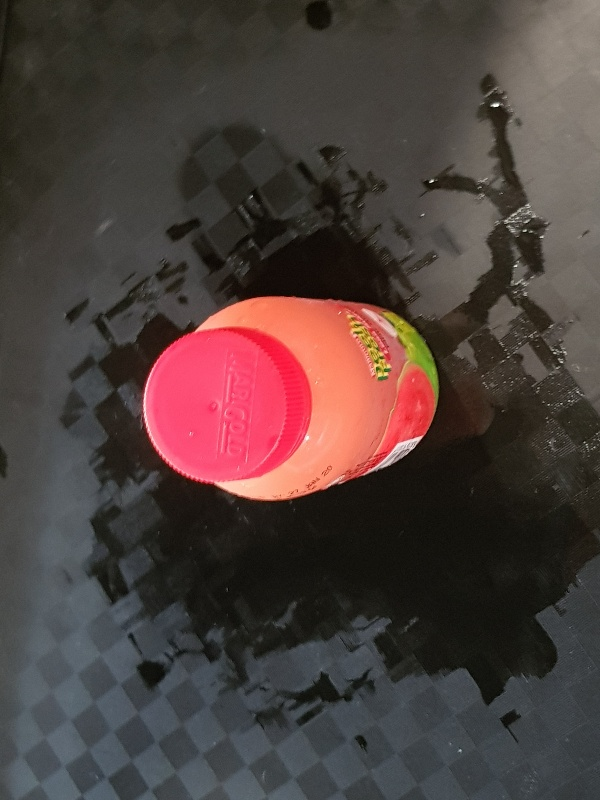Marigold Peel Fresh Pink Guava Juice Drink: (141, 293, 441, 502)
